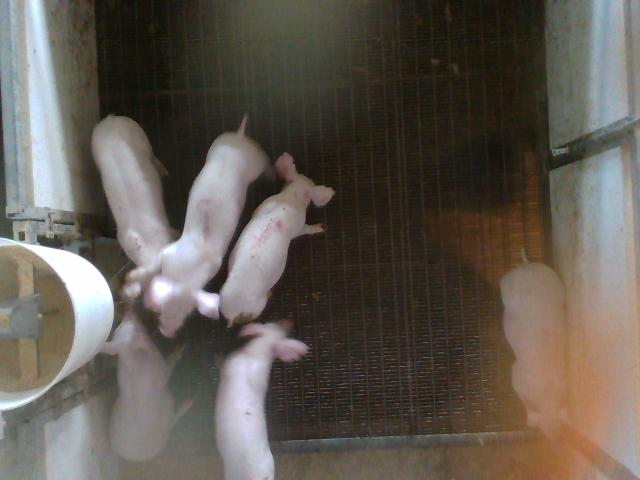pig-3: (146, 116, 270, 337)
pig-4: (500, 254, 566, 435)
pig-5: (220, 152, 335, 324)
